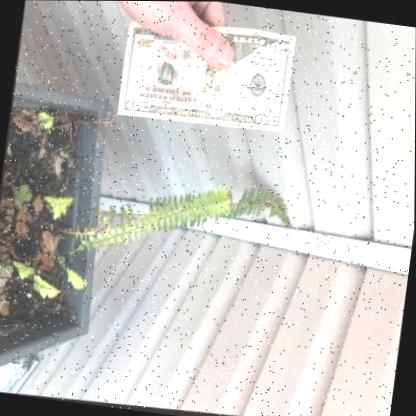fifty-front: (116, 15, 295, 138)
